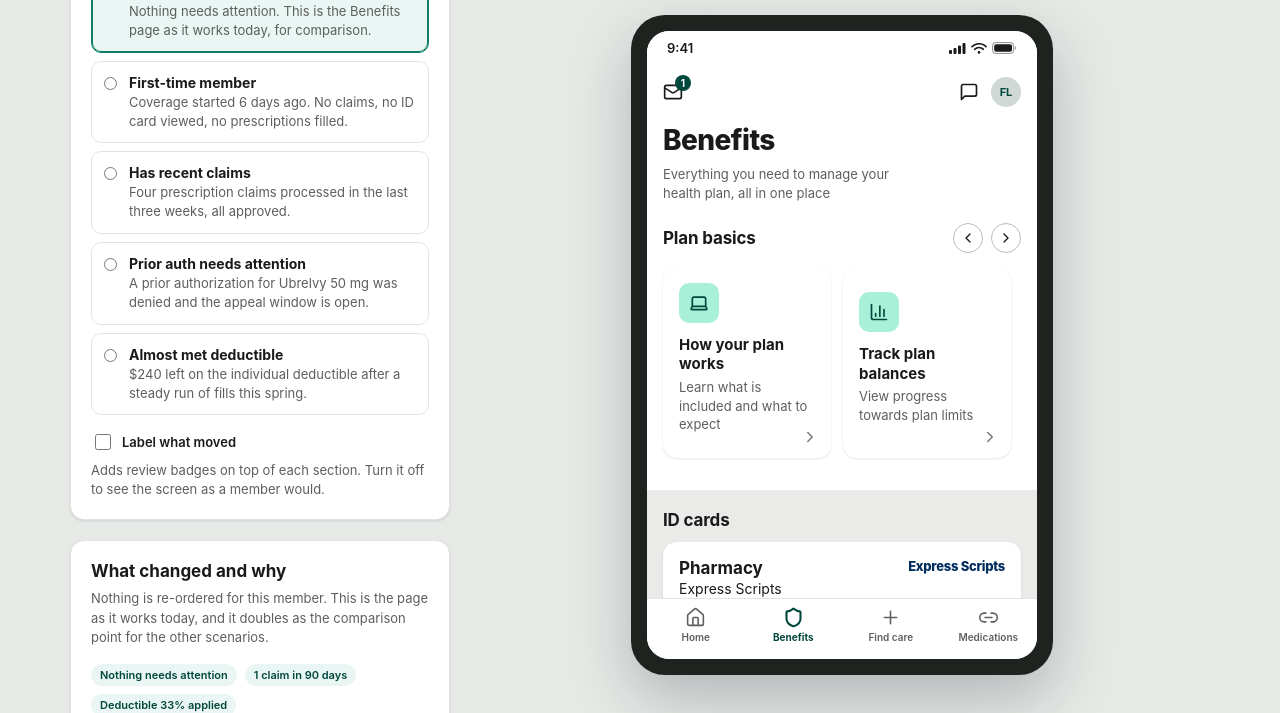
it: App › keeps the deductible detail behind a disclosure
The image size is (1280, 713).
(page scrolled)
Step 1. Click the radio button labelled "Almost met deductible" → (110, 355), box [104, 349, 117, 362]
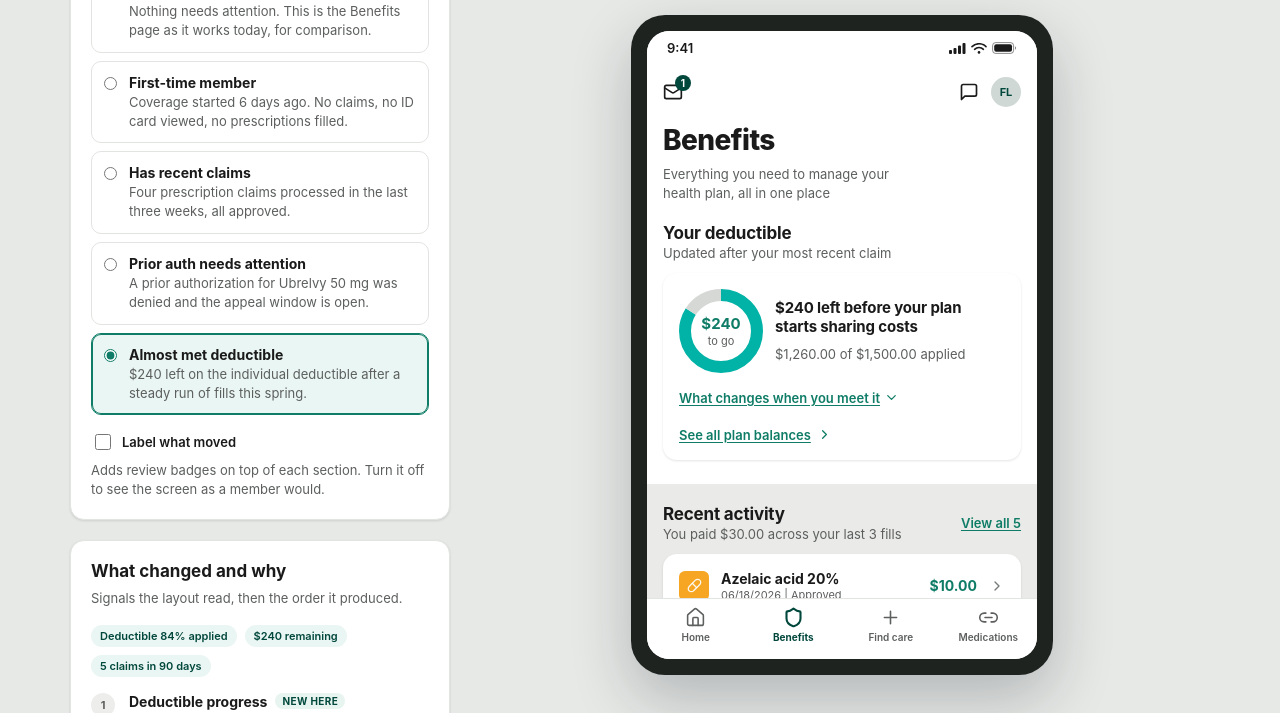
Check: the text "resets on January 1" is not shown
Step 2. Click the button "What changes when you meet it" → (789, 398), box [679, 381, 899, 415]
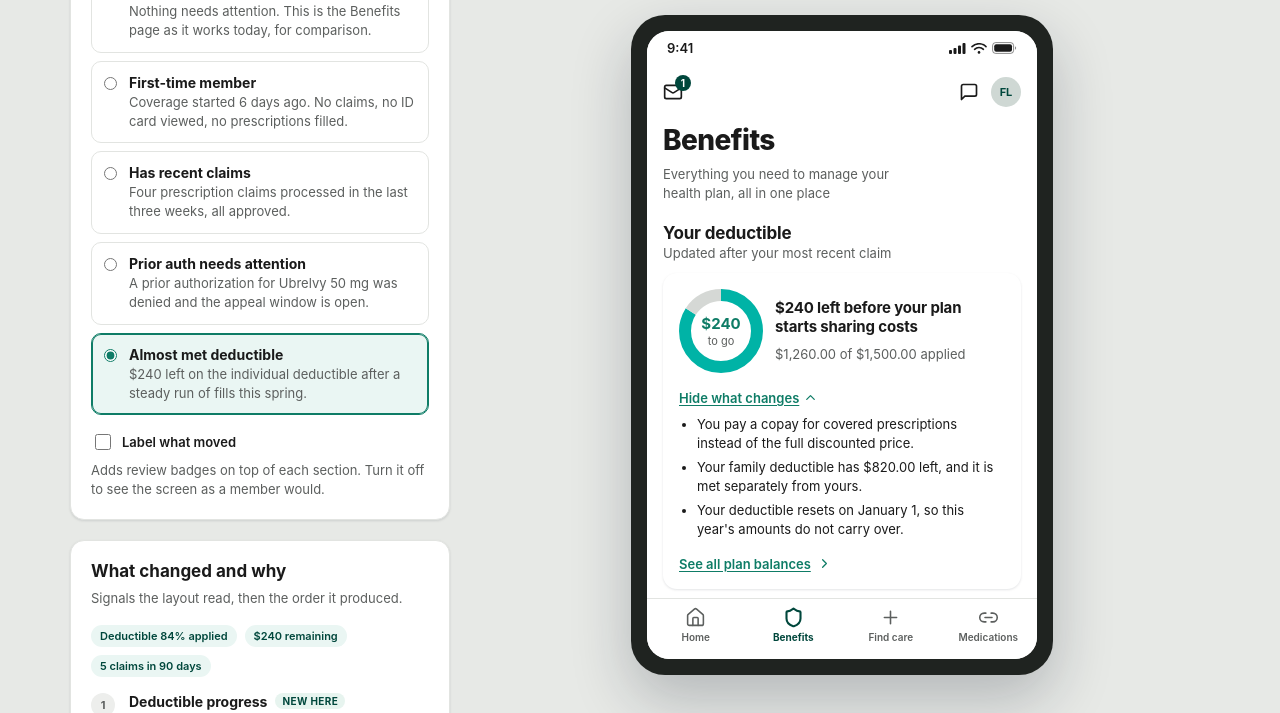
Check: the list item "resets on January 1" is shown, box [697, 502, 964, 537]
